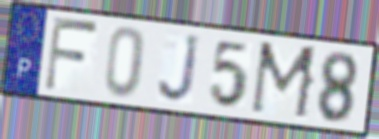0: (102, 24, 148, 101)
5: (207, 39, 253, 109)
8: (317, 50, 361, 125)
F: (41, 13, 101, 94)
J: (155, 32, 202, 106)
M: (247, 39, 322, 123)
